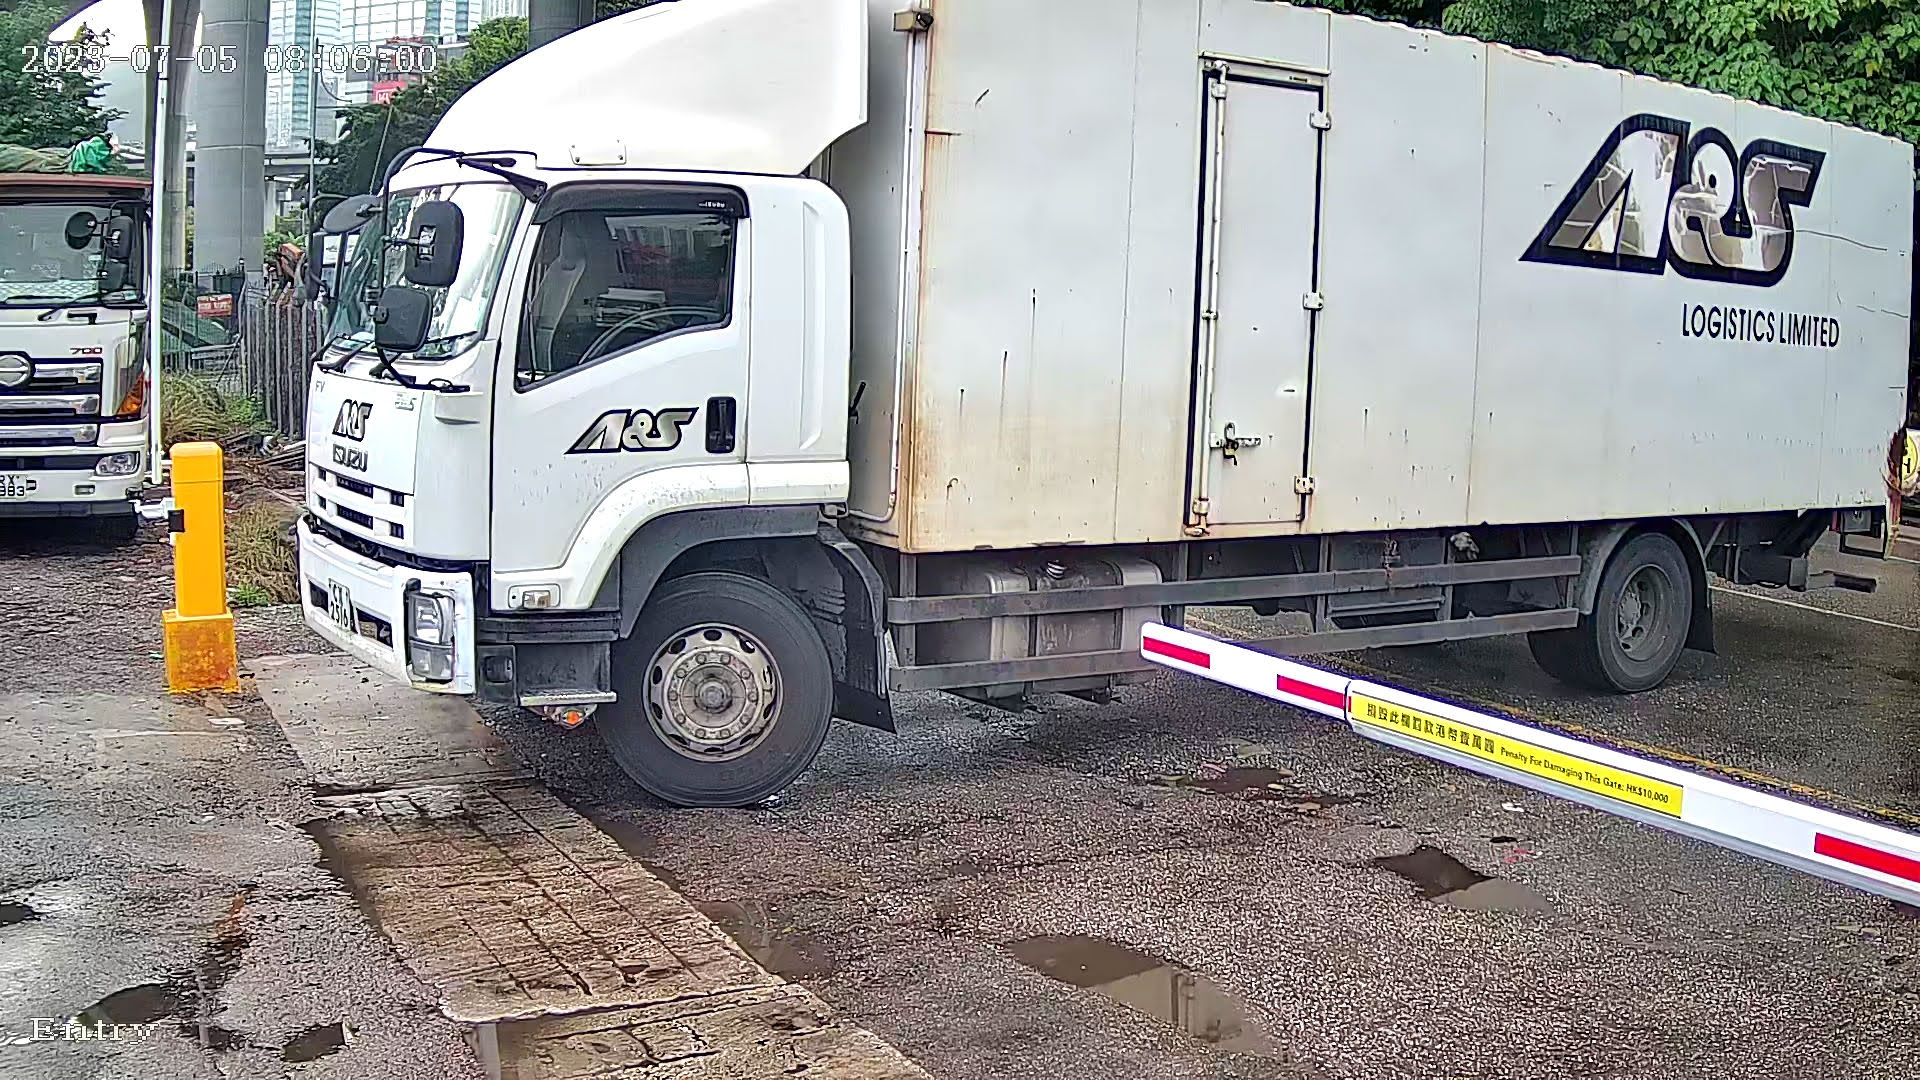truck_large: (252, 3, 1920, 804)
